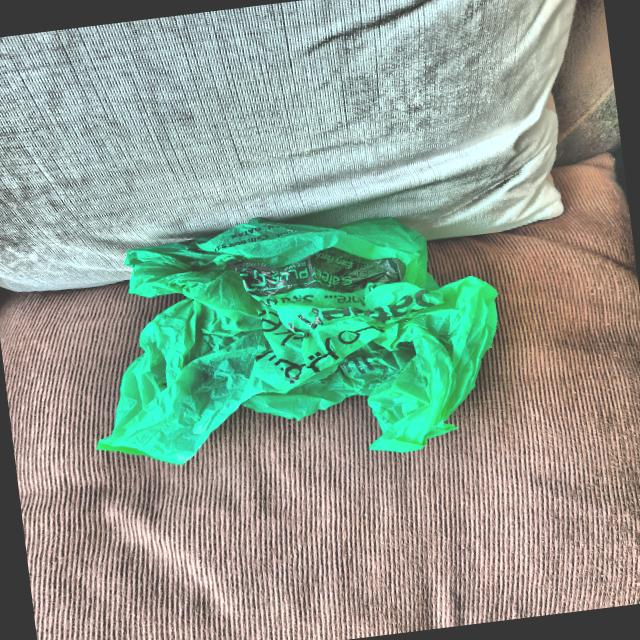plastic bag: (74, 185, 516, 488)
